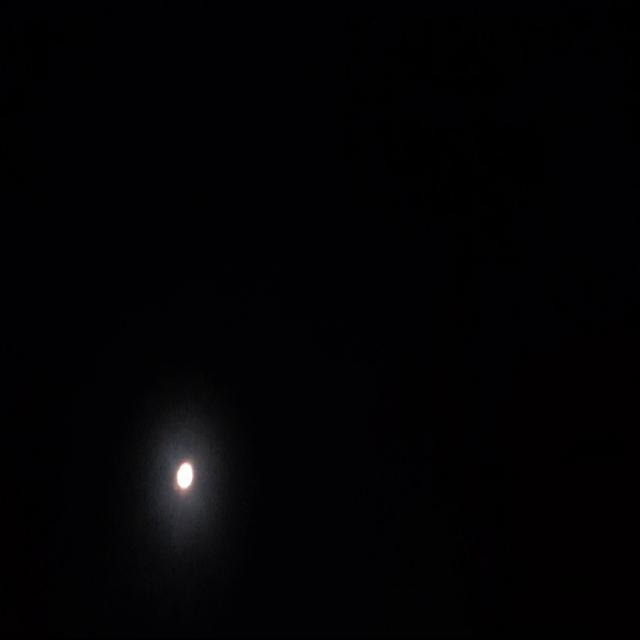moon: (171, 457, 192, 495)
